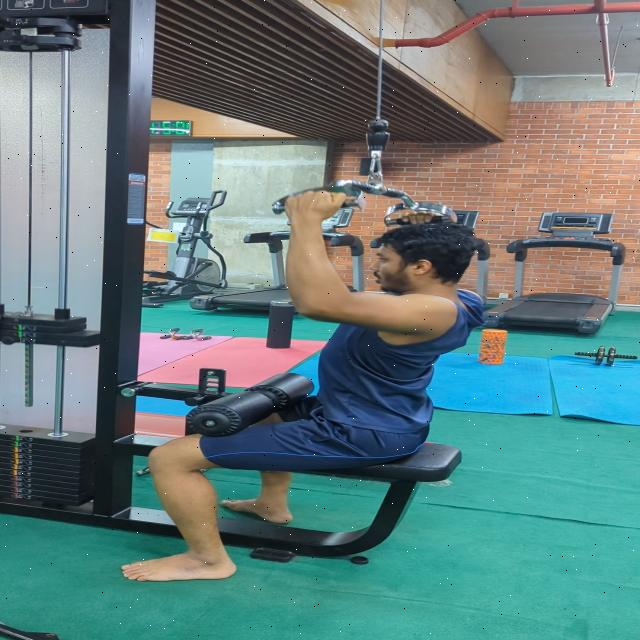Normal_LatPulldown: (89, 185, 501, 605)
